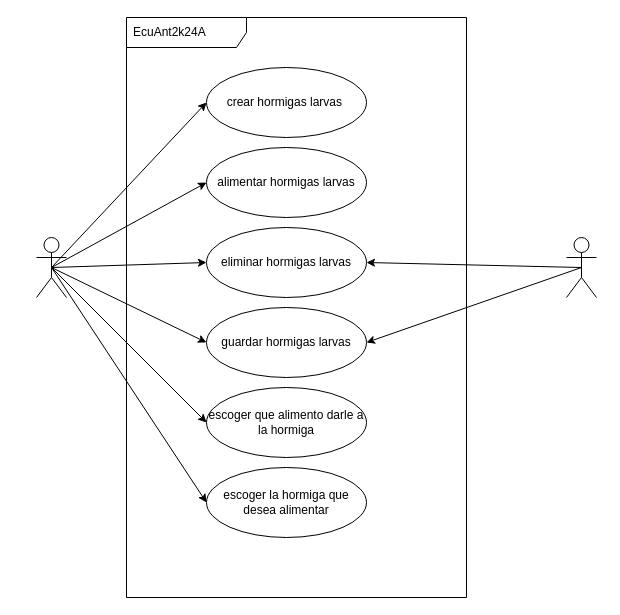
Image size: 620x615. Some labels were removed from this diagram. Each missing label, with the centre of its shape:
"entomólogos" goes at [51,267].
"Sistema" goes at [581,267].
